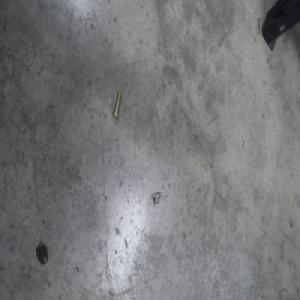Bolt: (111, 91, 122, 120)
